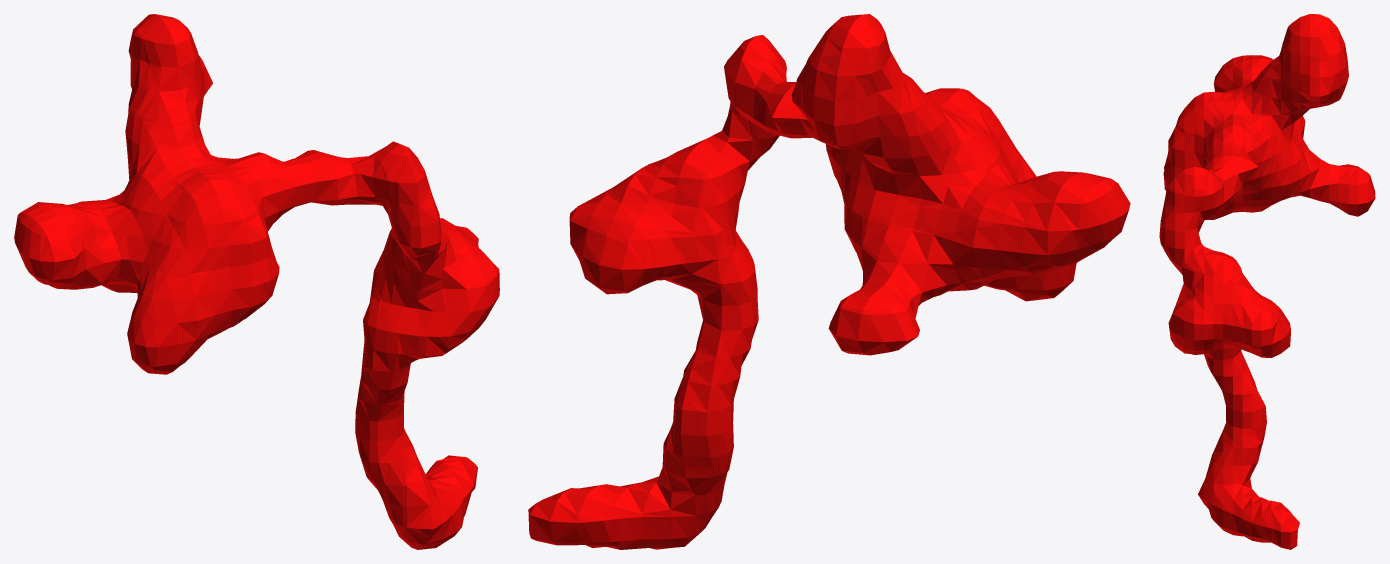
Rendered from ssb_coarse.dae.
3 renders of one model, left to right at view 1: azimuth 30°, elevation 25°; view 2: azimuth 150°, elevation 25°; view 3: azimuth 270°, elevation 25°, orthographic. The views are drawn at different scales.
Parts seen in each view (by area): view 1: ssb; view 2: ssb; view 3: ssb.
Boxes of the visible parts, x1=… form: ssb: x1=14, y1=14, x2=499, y2=549; ssb: x1=528, y1=14, x2=1130, y2=549; ssb: x1=1159, y1=14, x2=1375, y2=549.
Bounding box in the file's own units: 95.16 × 103 × 46.74.
